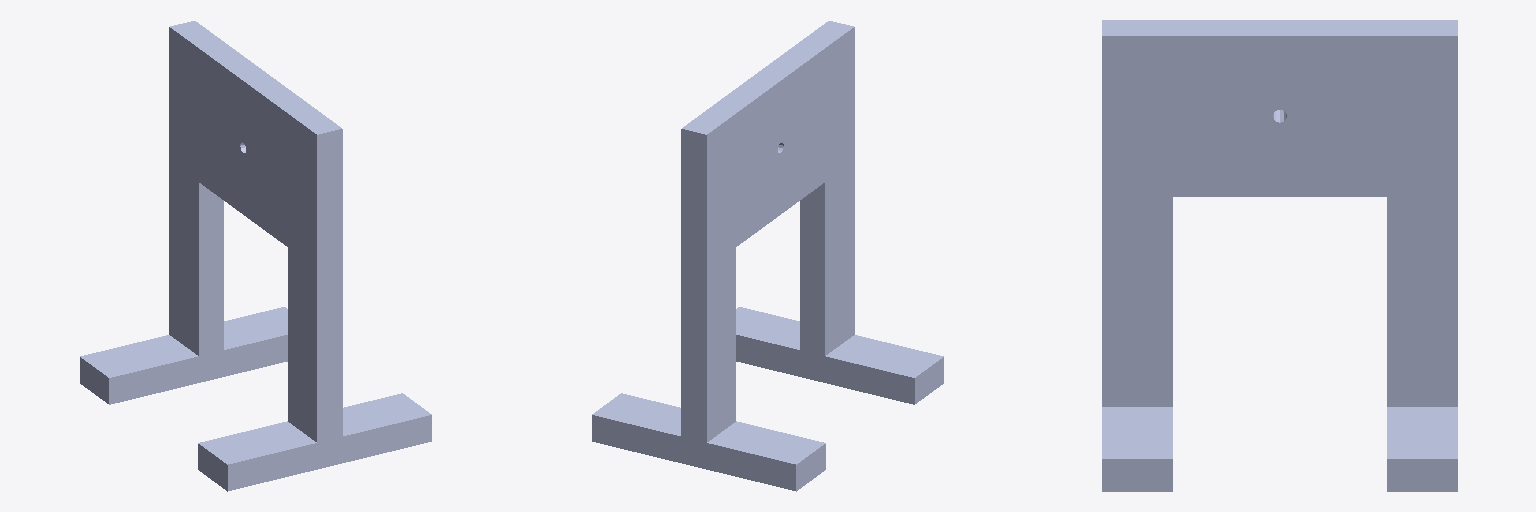
URDF robot description (aaaa):
<?xml version="1.0" encoding="utf-8"?>
<!-- This URDF was automatically created by SolidWorks to URDF Exporter! Originally created by [author] ([email redacted]) 
     Commit Version: 1.6.0-4-g7f85cfe  Build Version: 1.6.7995.38578
     For more information, please see http://wiki.ros.org/sw_urdf_exporter -->
<robot
  name="aaaa">
  <link
    name="wall_link">
    <inertial>
      <origin
        xyz="1.11022302462516E-16 -6.93889390390723E-17 -0.420396561017662"
        rpy="0 0 0" />
      <mass
        value="107.874336293856" />
      <inertia
        ixx="34.0349908251078"
        ixy="-5.96311194867028E-16"
        ixz="-4.87268595779328E-16"
        iyy="22.1648986717233"
        iyz="4.87821824080794E-16"
        izz="15.4098827138743" />
    </inertial>
    <visual>
      <origin
        xyz="0 0 0"
        rpy="0 0 0" />
      <geometry>
        <mesh
          filename="package://hydrus_xi/urdf/mesh/scene/base_link.dae" />
      </geometry>
      <material
        name="">
        <color
          rgba="0.792156862745098 0.819607843137255 0.933333333333333 1" />
      </material>
    </visual>
    <collision>
      <origin
        xyz="0 0 0"
        rpy="0 0 0" />
      <geometry>
        <mesh
          filename="package://hydrus_xi/urdf/mesh/scene/base_link.dae" />
      </geometry>
    </collision>
  </link>
</robot>

--- Facts derived from the render (not from the file) ---
The picture shows the robot from 3 angles, left to right: view 1: azimuth 30°, elevation 25°; view 2: azimuth 150°, elevation 25°; view 3: azimuth 270°, elevation 25°; orthographic projection.
Robot: aaaa — 1 links, 0 joints (none); root link wall_link; default pose: all joints at 0.
Links seen in each view (by area): view 1: wall_link; view 2: wall_link; view 3: wall_link.
Boxes of the visible links, bbox=[...] form: wall_link: bbox=[80, 21, 431, 491]; wall_link: bbox=[592, 21, 943, 491]; wall_link: bbox=[1102, 20, 1457, 491].
Bounding box of the posed robot: 0.8 × 1 × 1.25 m (x, y, z).
1 mesh visuals loaded from 1 distinct referenced files (1 Collada DAE).